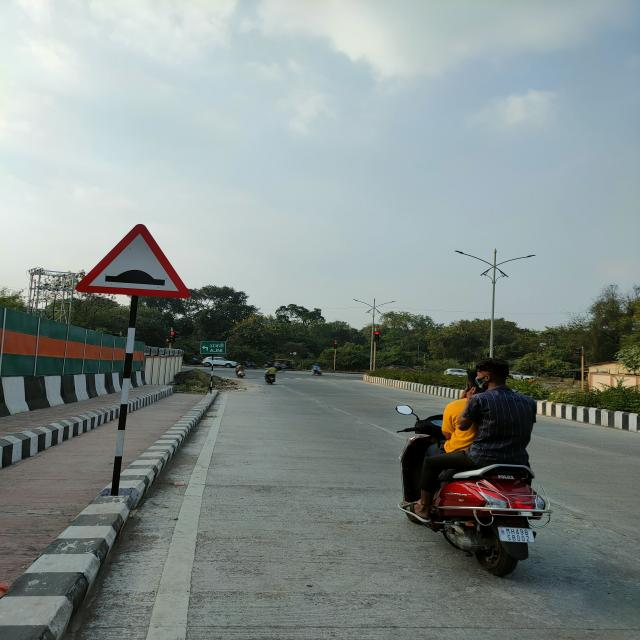HUMP_OR_ROUGH_ROAD: (76, 225, 192, 300)
